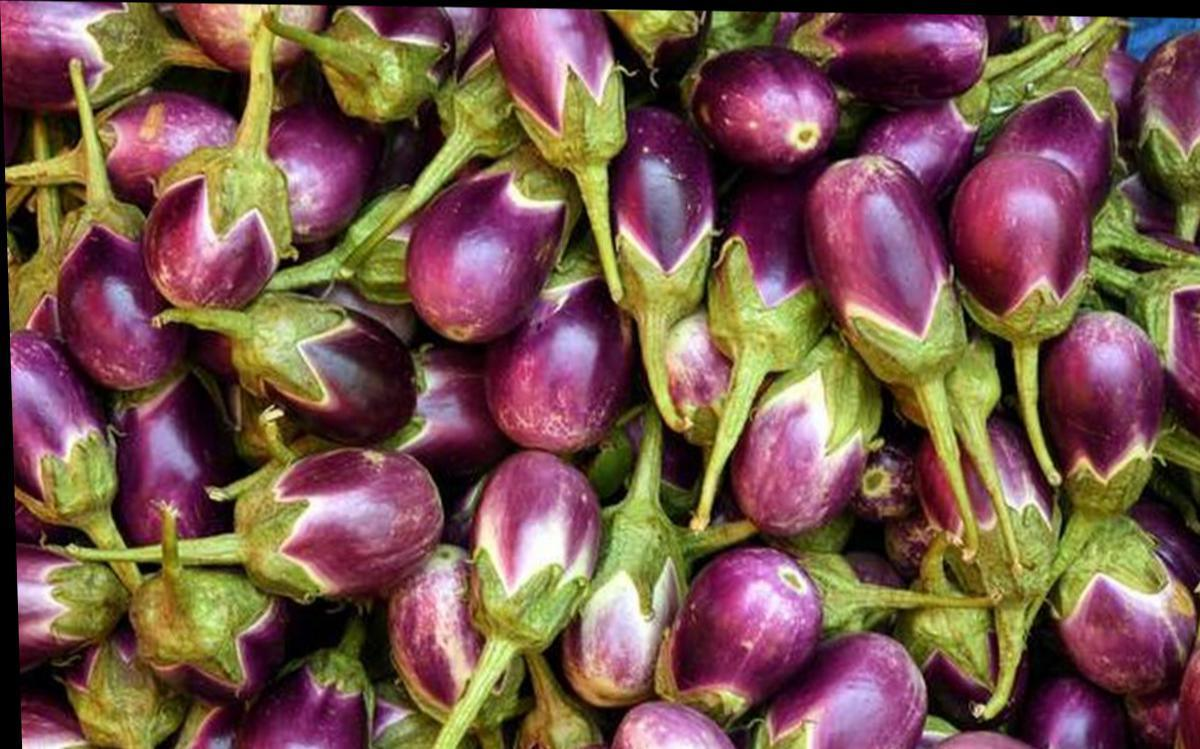eggplant: (16, 9, 1199, 748)
